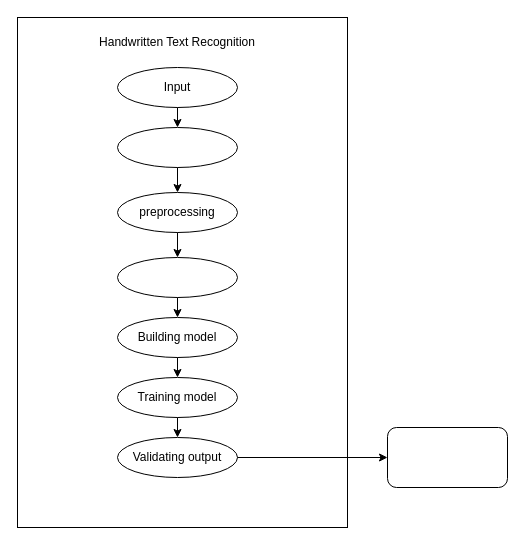
Some shapes in this 525 by 545 pixel diagram are drawn without their labels. The shapes that lost their labels are listed below. From the top down, each one's centre as x and y in pixels, then its label:
At point 177,147: "cleaning data".
At point 177,277: "CTC loss".
At point 447,457: "Using different activation functions to compare accuracy".
